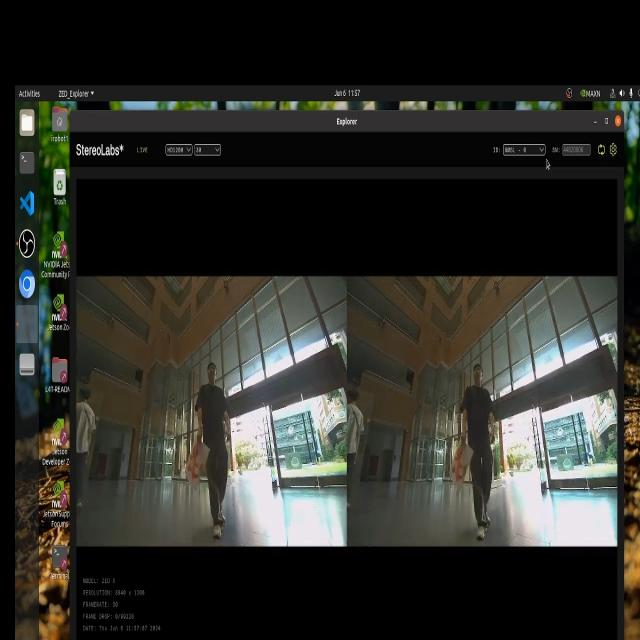red: (186, 436, 205, 487), (447, 442, 465, 490)
